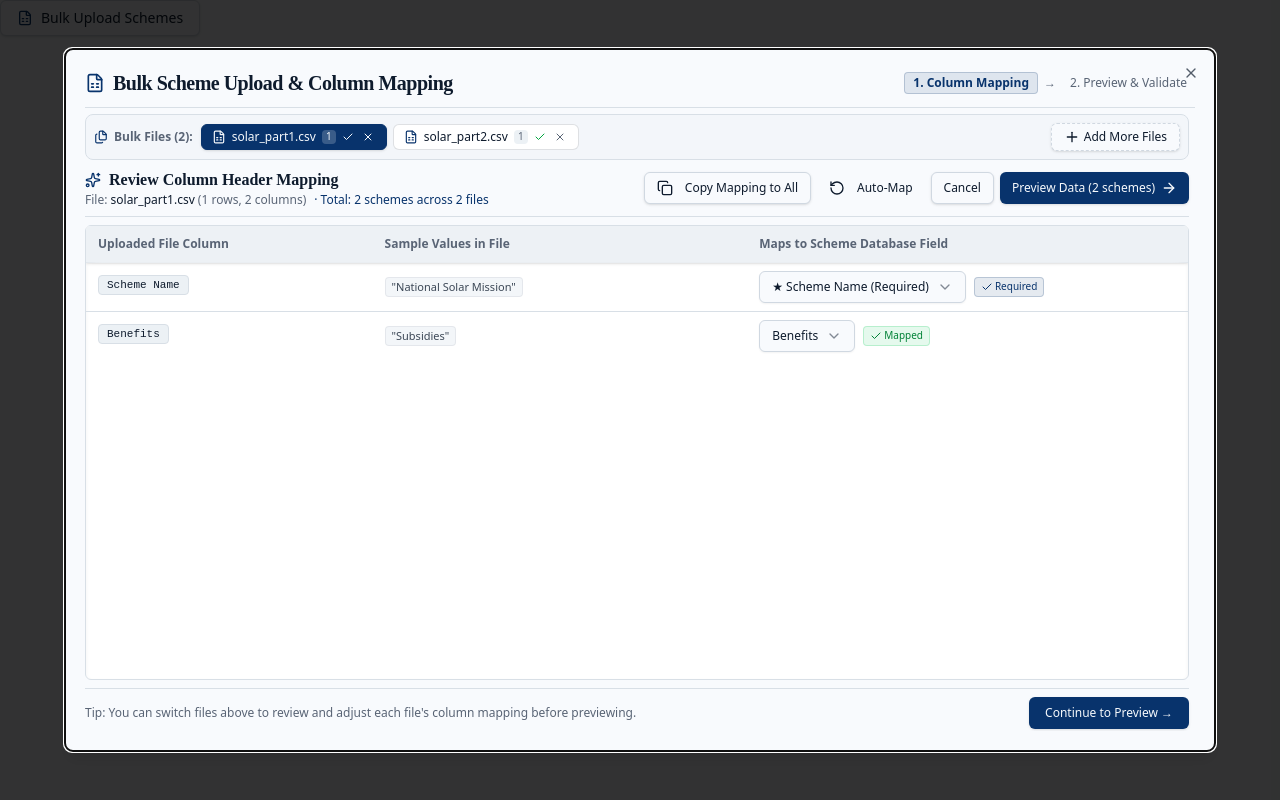
Scenario: Multiple Bulk Data Upload Tests › detects cross-file duplicates between uploaded bulk files
Earlier steps of the test are not shown.
Click the button "Preview Data (2 schemes)".
click(1094, 188)  # box [1000,172,1189,204]
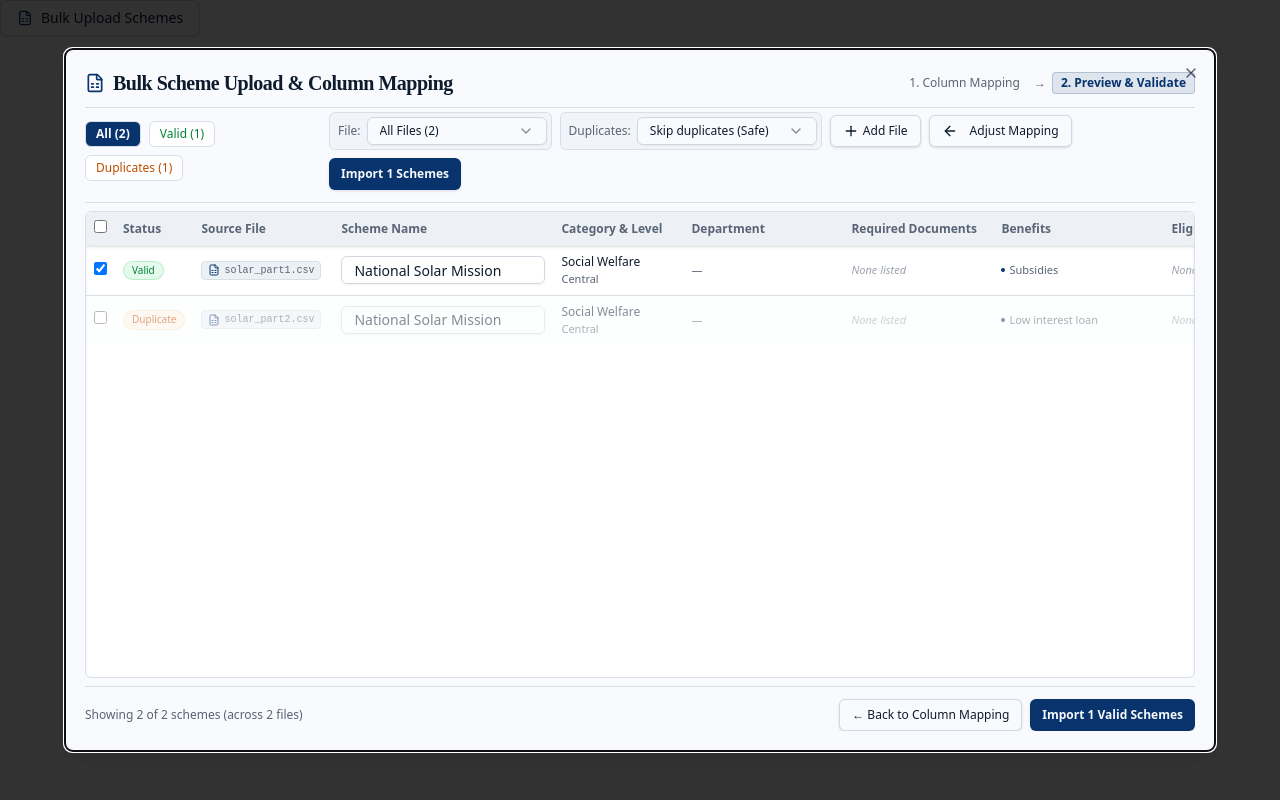
Result: the text "Showing 2 of 2 schemes (across 2 files)" is shown at [85,707,303,723]
Result: the text "Valid" is shown at [123,261,164,280]
Result: the text "Duplicate" is shown at [123,310,186,330]
